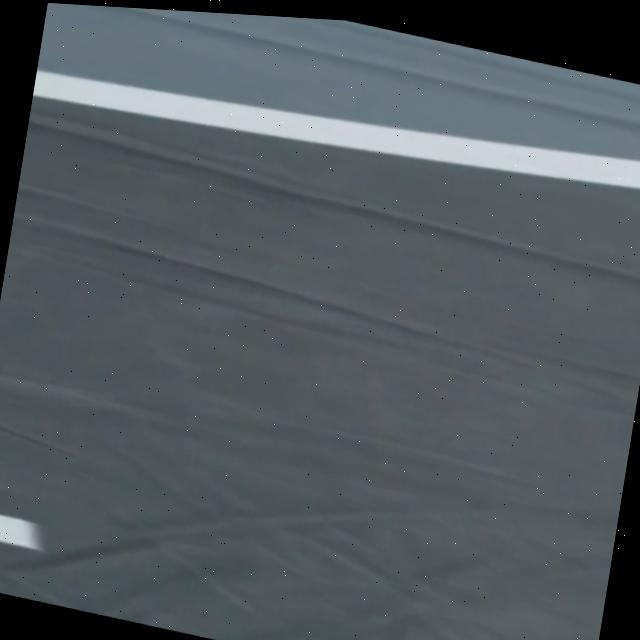center: (0, 514, 40, 549)
left: (32, 70, 640, 188)
